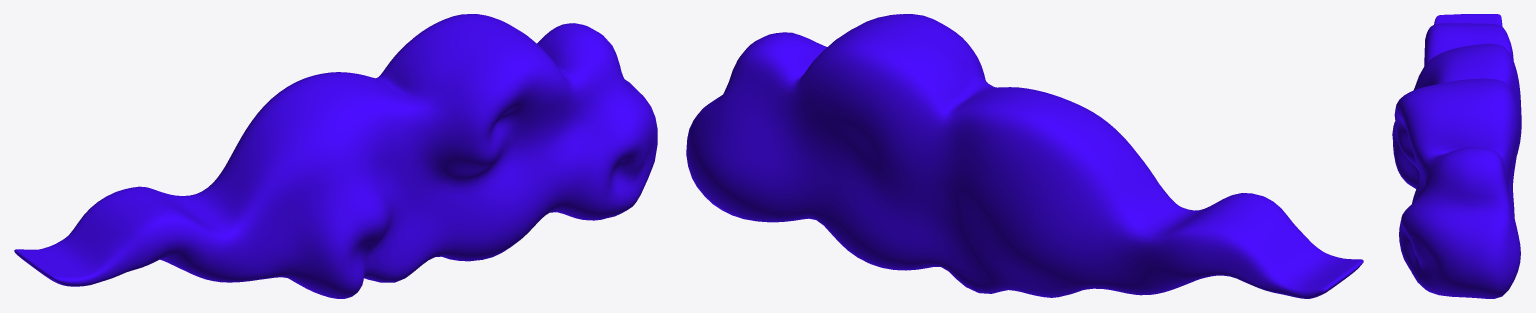
Rendered from morcivert.fbx.
The picture shows the model from 3 angles, left to right: view 1: azimuth 30°, elevation 25°; view 2: azimuth 150°, elevation 25°; view 3: azimuth 270°, elevation 25°; orthographic projection. The views are drawn at different scales.
Parts seen in each view (by area): view 1: CLOUD_LOW POLLY.004; view 2: CLOUD_LOW POLLY.004; view 3: CLOUD_LOW POLLY.004.
Boxes of the visible parts, x1,y1,x2,y2 form: CLOUD_LOW POLLY.004: (14, 14, 657, 298); CLOUD_LOW POLLY.004: (686, 14, 1363, 298); CLOUD_LOW POLLY.004: (1392, 14, 1521, 298).
Size of the model in its own units: 82465 by 27850 by 18349.
